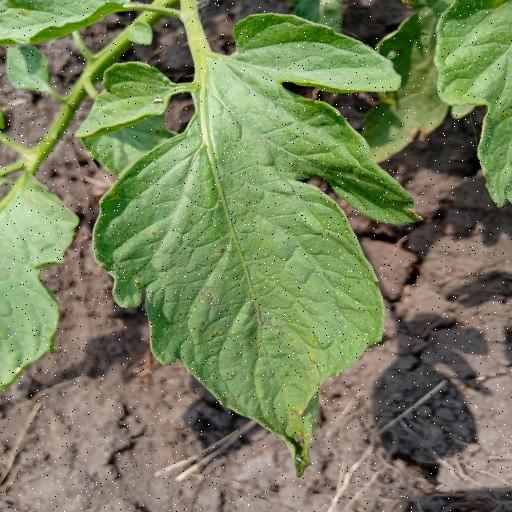Tomato_Mildiou: (89, 11, 405, 481)
